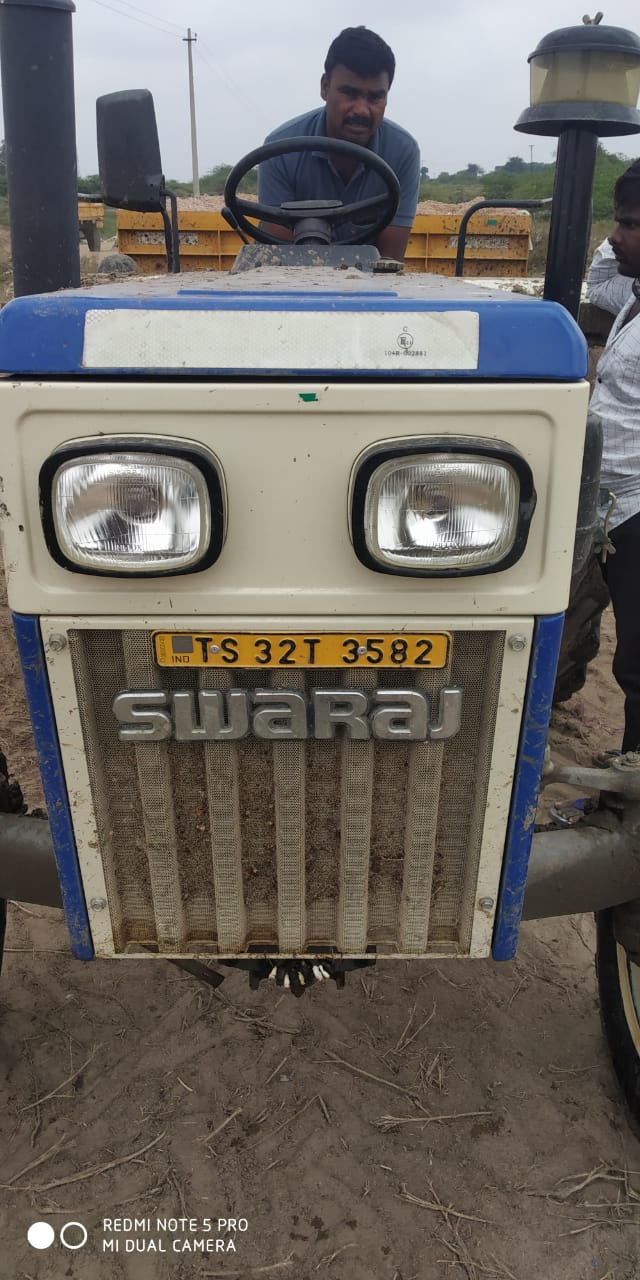license_plate: (146, 623, 458, 680)
